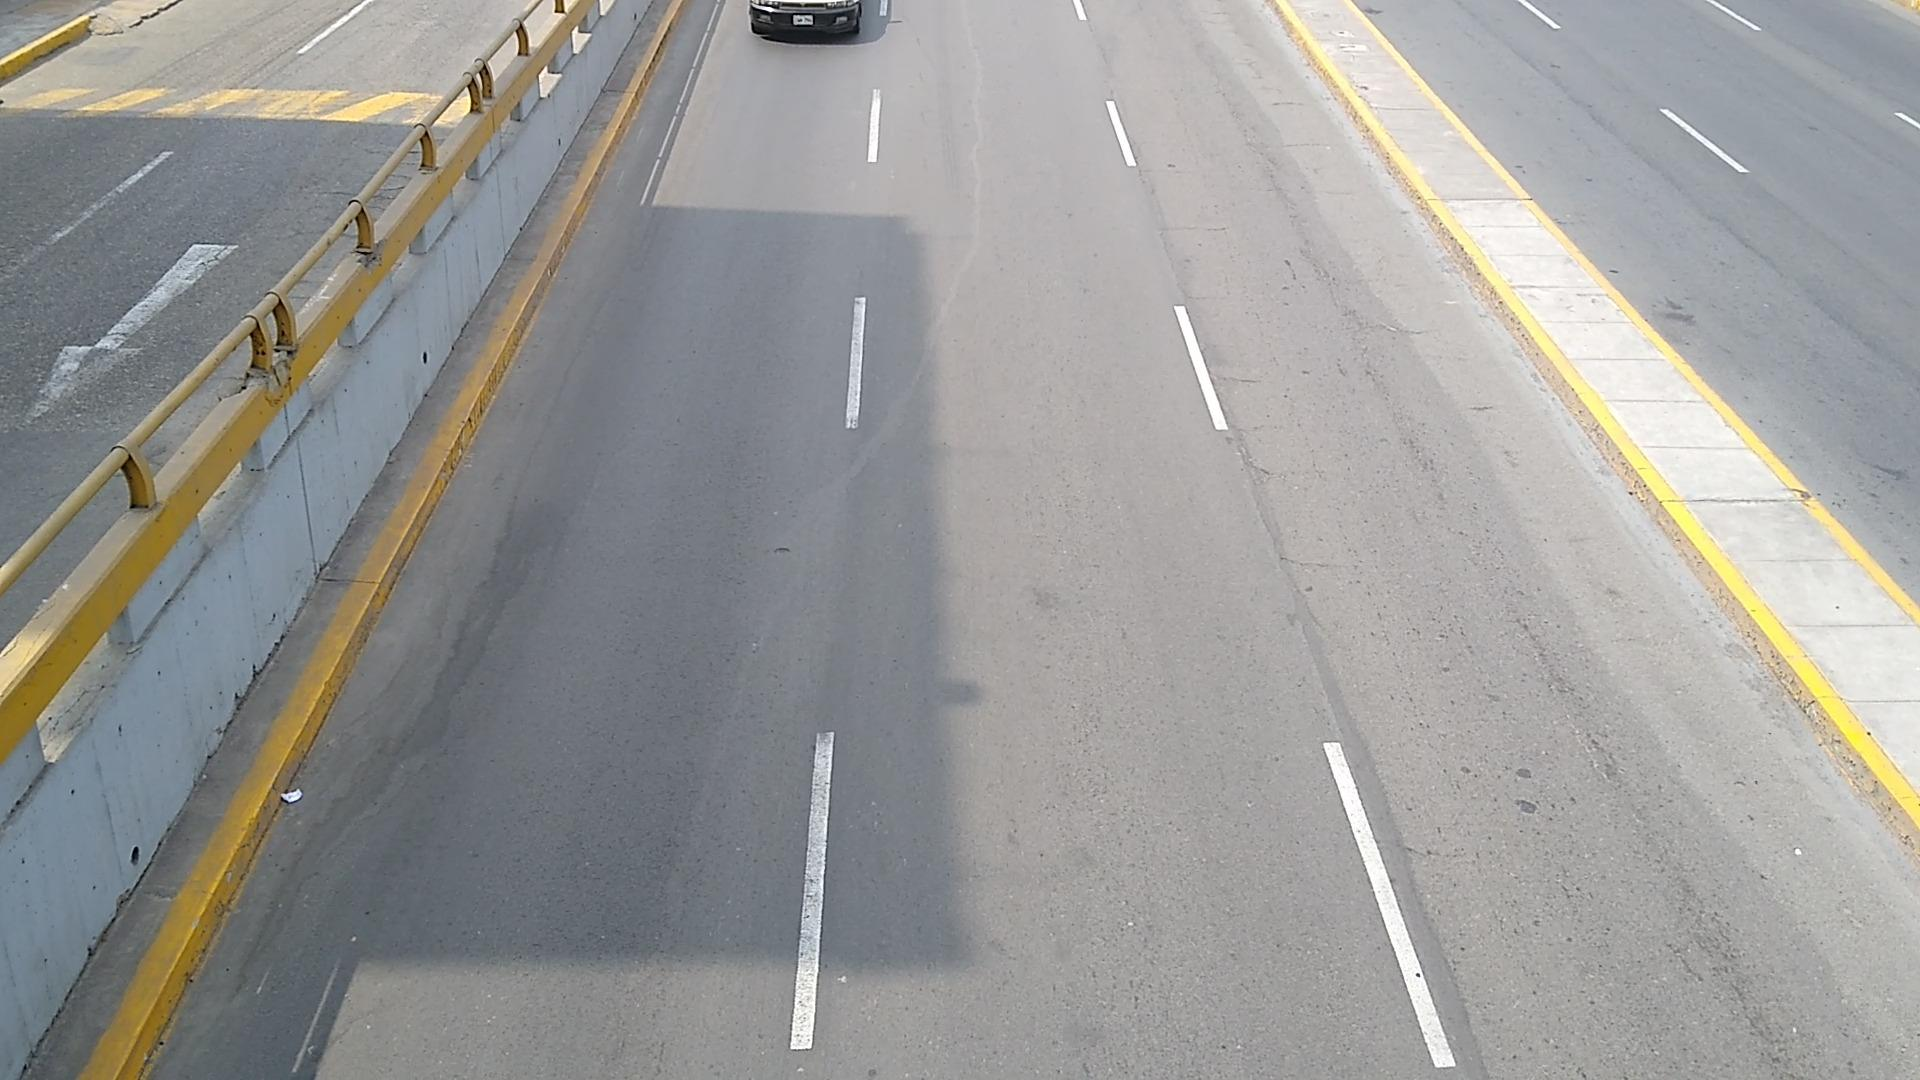car: (750, 0, 862, 34)
